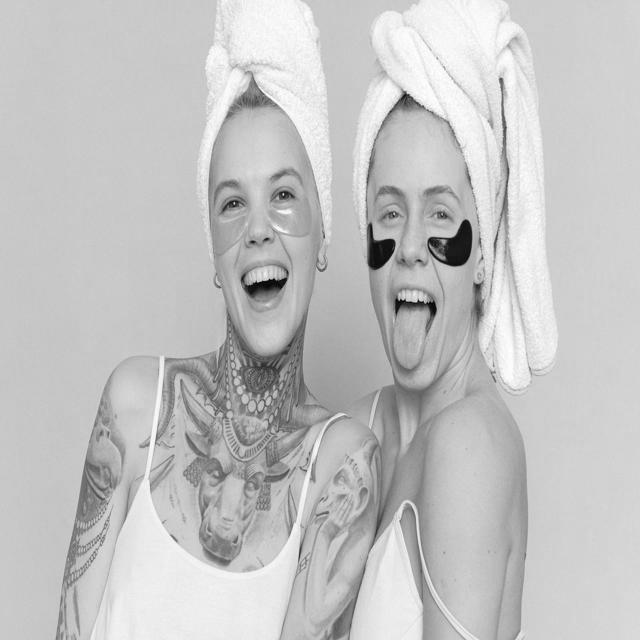Happiness: (205, 110, 320, 362)
